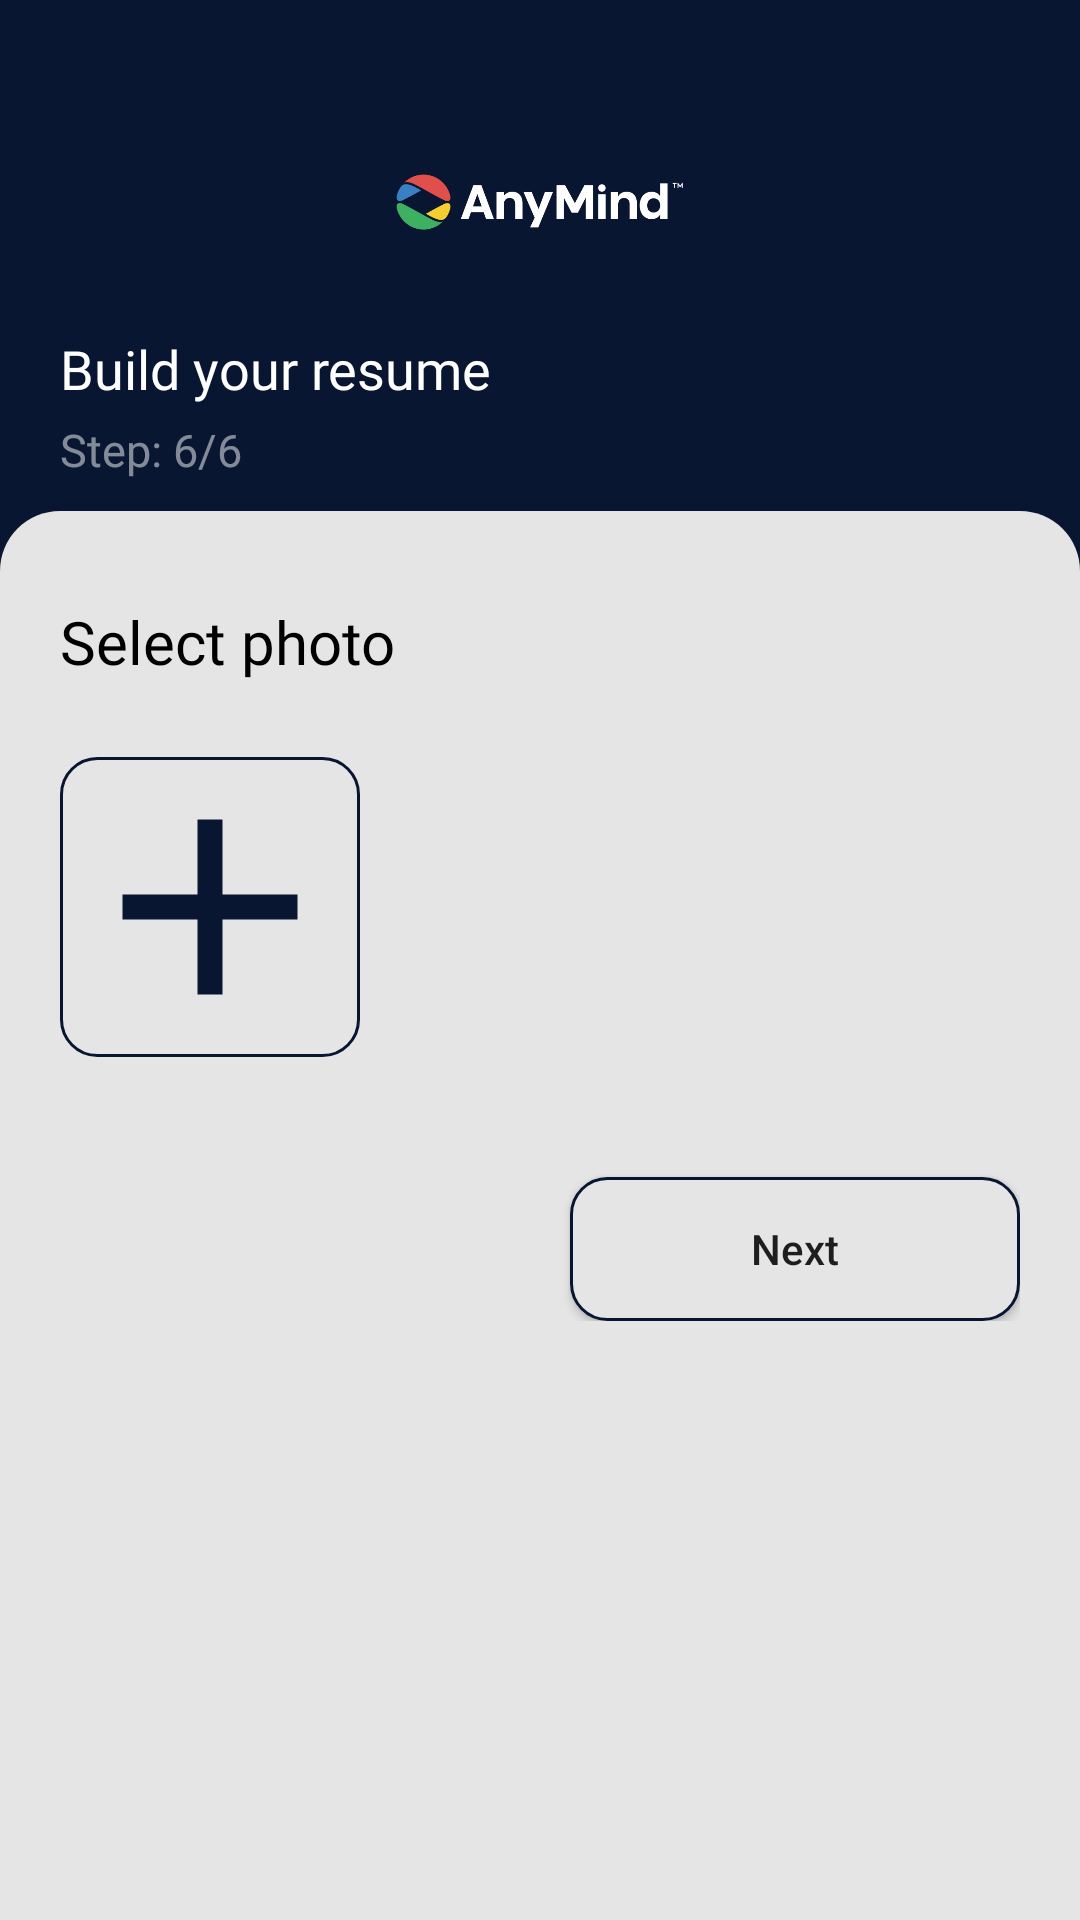

Where icons sit on this 1080*1920 app screen, as [x1, y1, x2, y2]:
add: [60, 757, 360, 1057]
